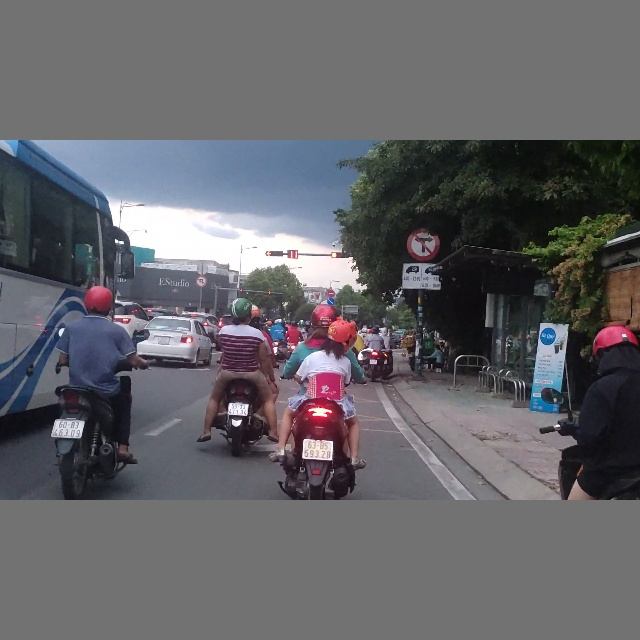P.102: (327, 289, 335, 297)
P.124a*: (195, 275, 207, 288)
P.137: (406, 228, 440, 261)
R.302a: (327, 298, 335, 306)
S.505a*Xe tai: (400, 262, 442, 291)
